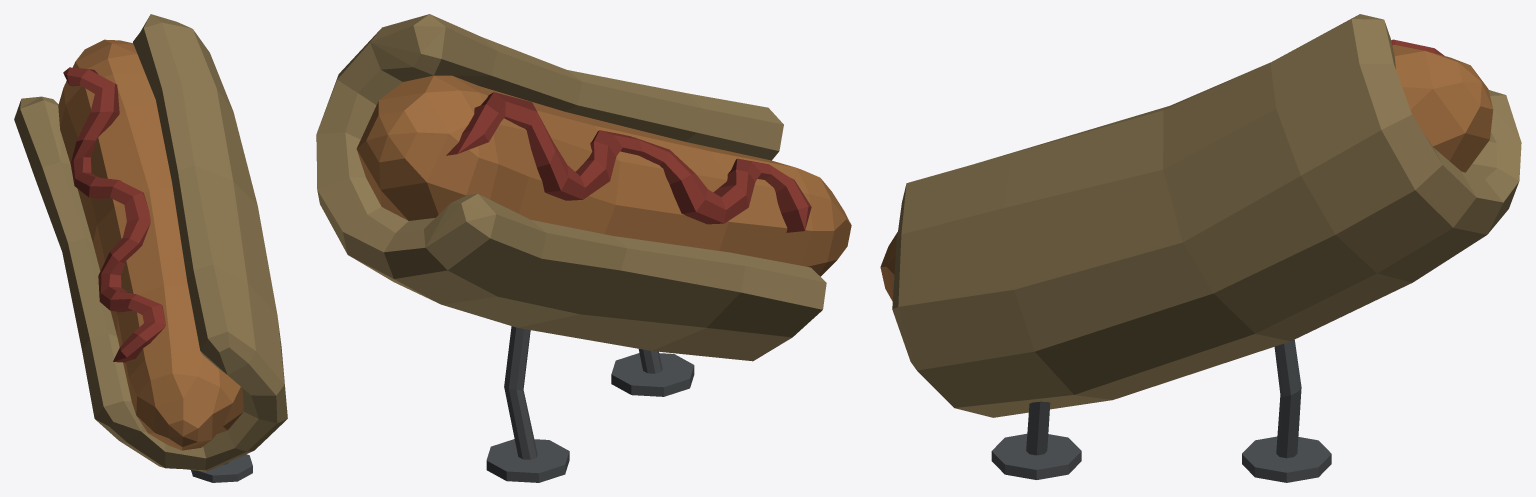
Rendered from SM_Prop_Sign_Hotdog_01.glb.
3 renders of one model, left to right at view 1: azimuth 30°, elevation 25°; view 2: azimuth 150°, elevation 25°; view 3: azimuth 270°, elevation 25°, orthographic. The views are drawn at different scales.
Parts seen in each view (by area): view 1: SM_Prop_Sign_Hotdog_01; view 2: SM_Prop_Sign_Hotdog_01; view 3: SM_Prop_Sign_Hotdog_01.
Boxes of the visible parts, box(x1,y1,x2,y2) form: SM_Prop_Sign_Hotdog_01: box(14, 14, 287, 482); SM_Prop_Sign_Hotdog_01: box(316, 14, 851, 482); SM_Prop_Sign_Hotdog_01: box(880, 14, 1521, 482).
Size of the model in its own units: 85.94 by 116 by 141.
1 material, 1 textured.
